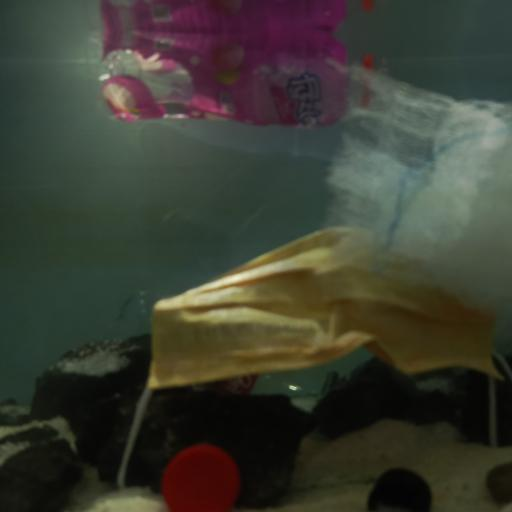bottle_cap: (161, 442, 241, 512), (368, 465, 430, 512)
mask: (146, 223, 507, 388)
net: (326, 60, 512, 312)
plastic_bottle: (92, 46, 385, 132), (117, 290, 343, 398)
